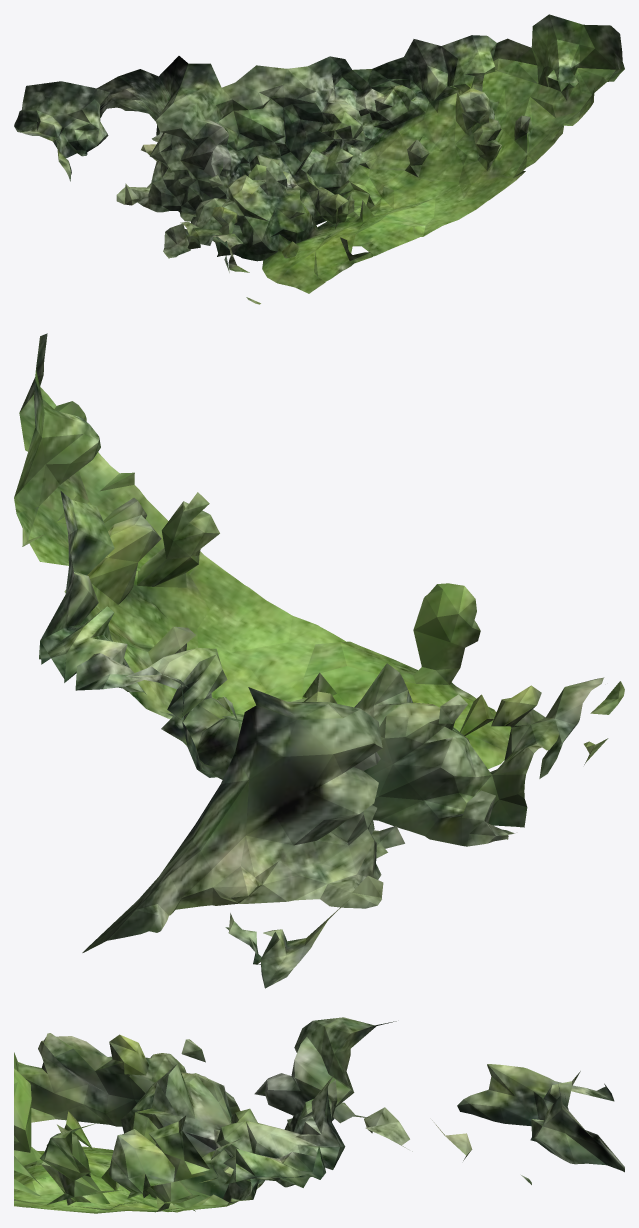
3 views of the same model, one above another, from view 1: azimuth 30°, elevation 25°; view 2: azimuth 150°, elevation 25°; view 3: azimuth 270°, elevation 25° (orthographic). The views are drawn at different scales.
Bounding box in the file's own units: 100 × 46.41 × 104.
3 materials, 3 textured.
